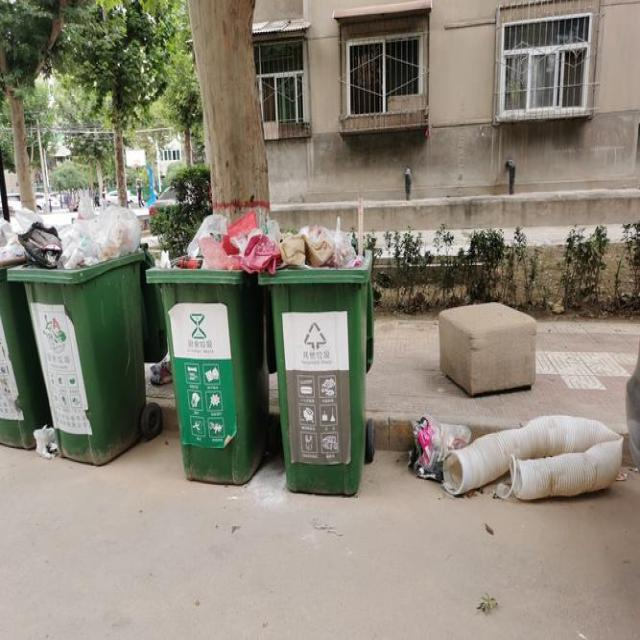garbage: (406, 411, 624, 500)
overflow: (6, 207, 162, 462), (146, 210, 271, 482), (256, 216, 373, 493), (0, 208, 47, 450)
